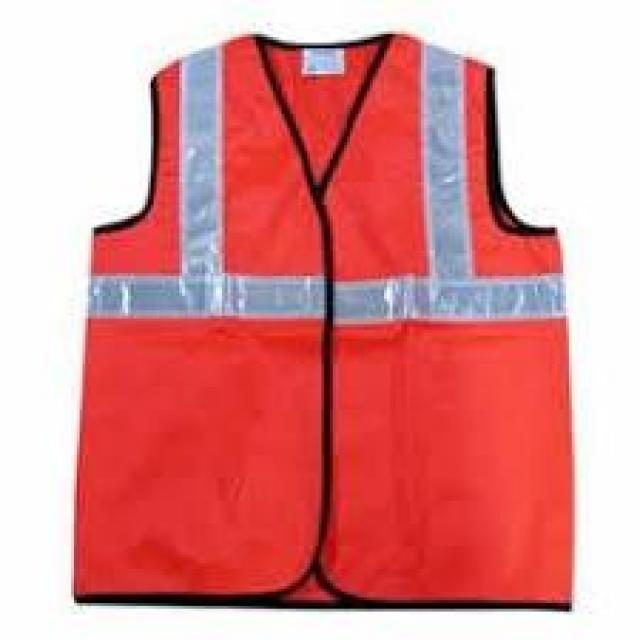Reflective-Jacket: (34, 6, 620, 620)
